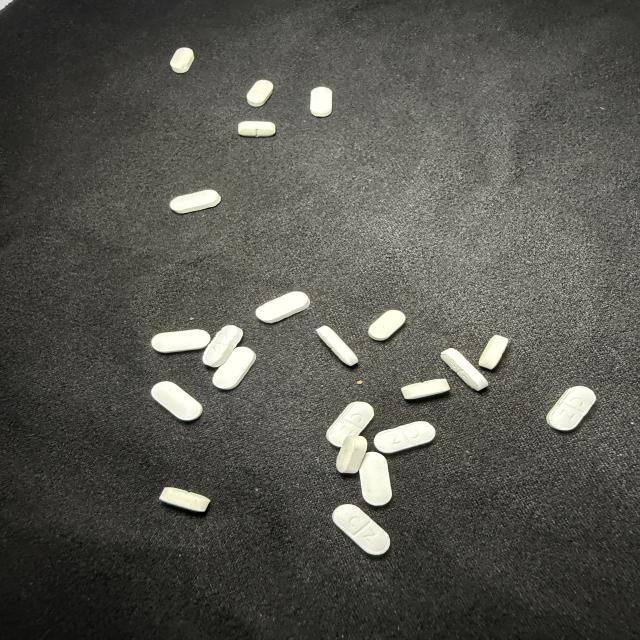pill: (333, 504, 390, 555), (327, 401, 374, 446), (547, 386, 595, 430), (152, 381, 202, 421), (374, 421, 435, 453), (441, 349, 488, 390), (213, 347, 255, 389), (359, 452, 391, 506), (316, 326, 358, 366), (256, 292, 310, 323), (203, 326, 243, 367), (152, 330, 211, 352), (160, 488, 210, 512), (170, 190, 220, 213), (337, 435, 367, 473), (369, 310, 405, 340), (479, 335, 508, 369), (401, 379, 449, 399), (247, 80, 273, 106), (310, 87, 332, 116), (170, 48, 194, 73), (238, 121, 275, 136)
